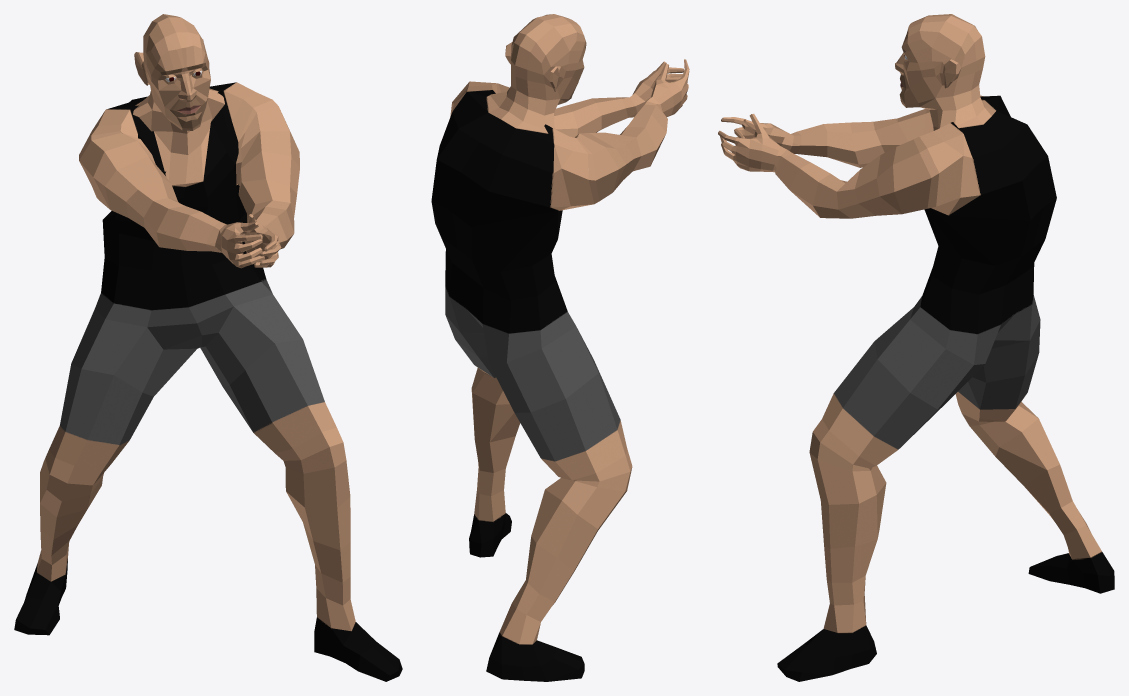
File: PlayerShoot(14).obj
3 renders of one model, left to right at view 1: azimuth 30°, elevation 25°; view 2: azimuth 150°, elevation 25°; view 3: azimuth 270°, elevation 25°, orthographic. The views are drawn at different scales.
Visible parts, largest first — view 1: Plane002; view 2: Plane002; view 3: Plane002.
Part boxes in pixels (x1,y1,x2,y2): Plane002: (14, 14, 402, 681); Plane002: (431, 14, 689, 681); Plane002: (718, 14, 1114, 681).
Size of the model in its own units: 718 by 1673 by 1009.
